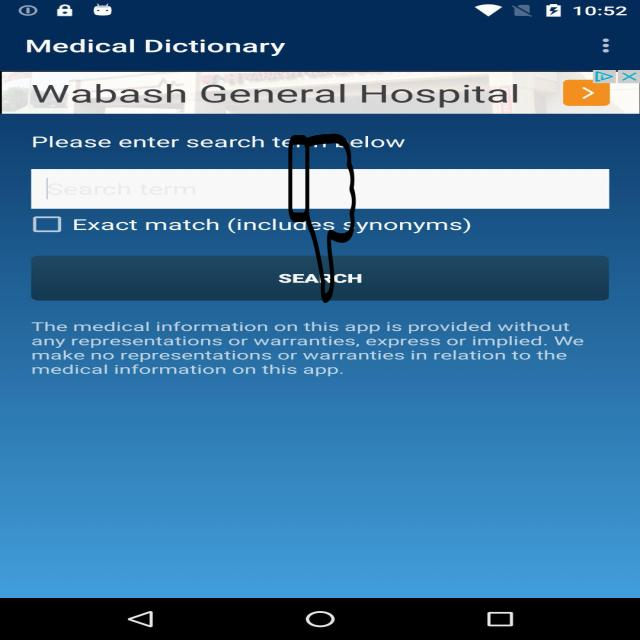obstruction: (287, 134, 357, 303)
